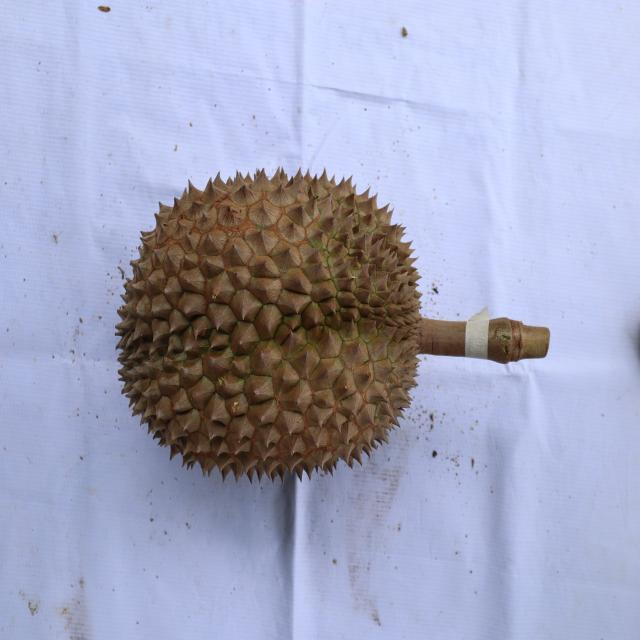mature: (114, 166, 424, 486)
